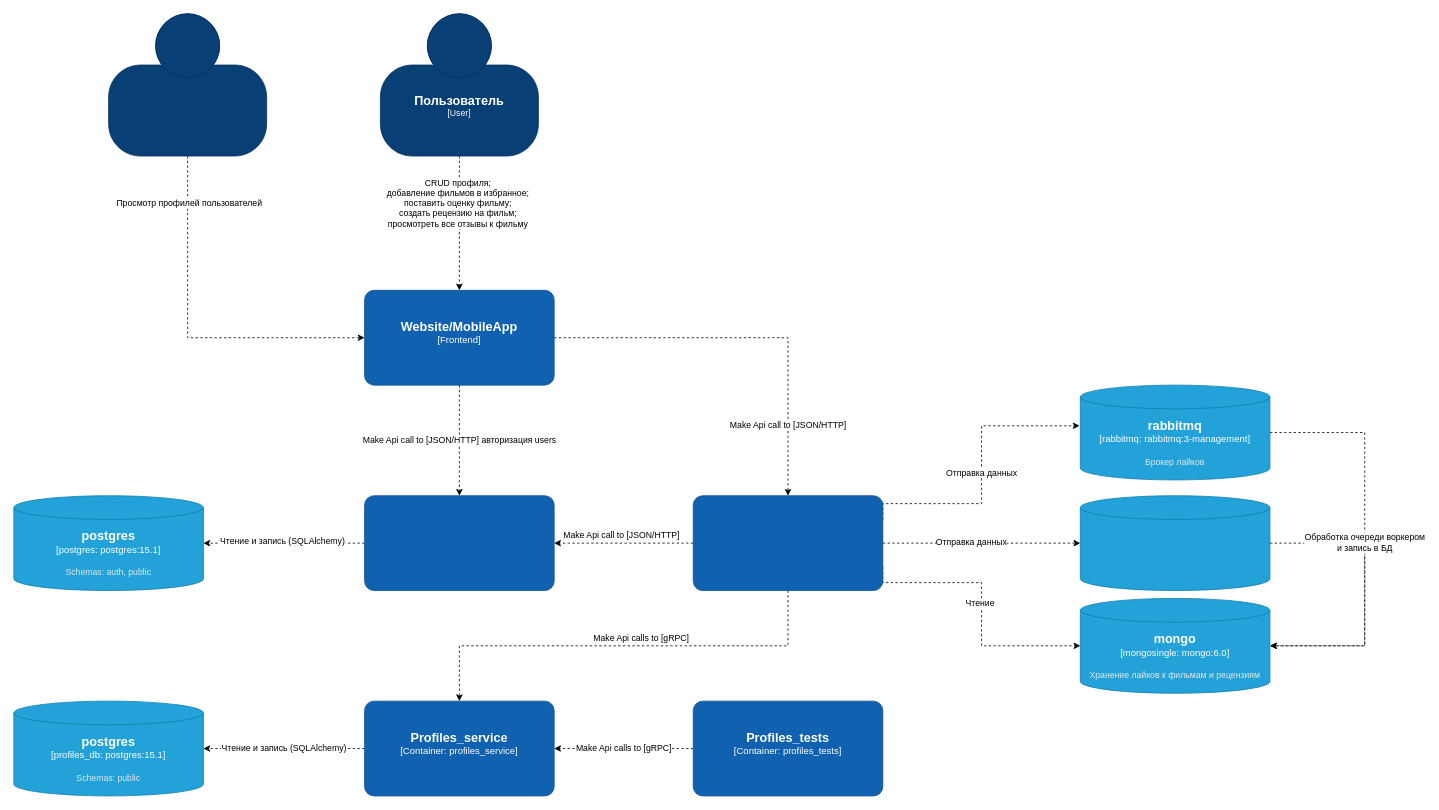
The diagram is 1439 pixels wide and 810 high, and some of its shapes have lost their labels. The centre of each missing label's shape, as x and y in pixels:
"Auth API [Container: auth]" belongs at [459,543].
"Backend API [Container: backend]" belongs at [787,543].
"rabbitmq_dlq [rabbitmq_dlq: rabbitmq:3-management] Брокер лайков" belongs at [1175,543].
"Администратор [Admin(superuser)]" belongs at [187,84].
